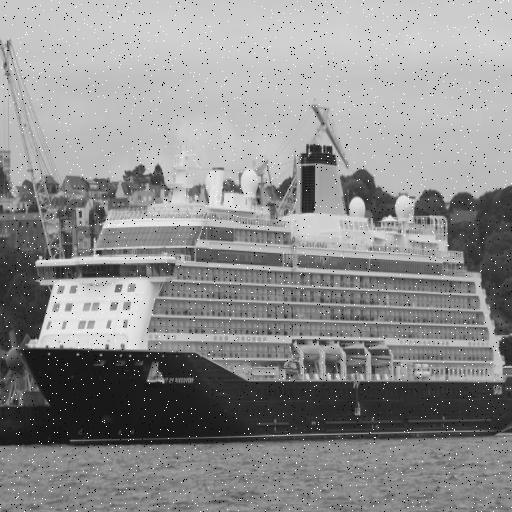cruises: (19, 141, 512, 455)
